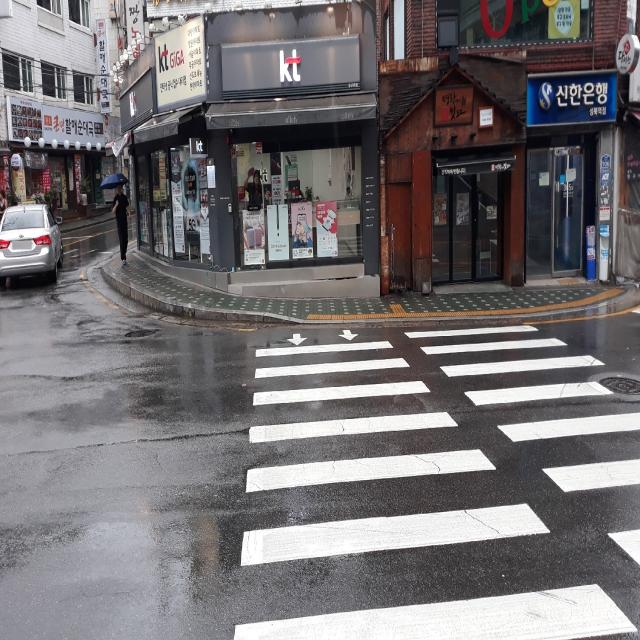횡단보도: (233, 325, 640, 640)
